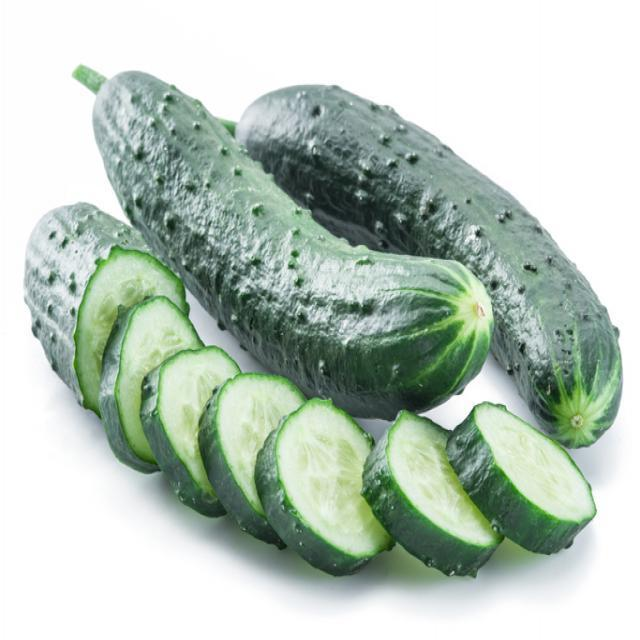cucumber: (23, 27, 624, 620), (104, 279, 607, 603), (364, 387, 532, 615), (251, 385, 411, 594), (450, 390, 616, 578), (200, 344, 352, 548), (136, 319, 296, 506)
